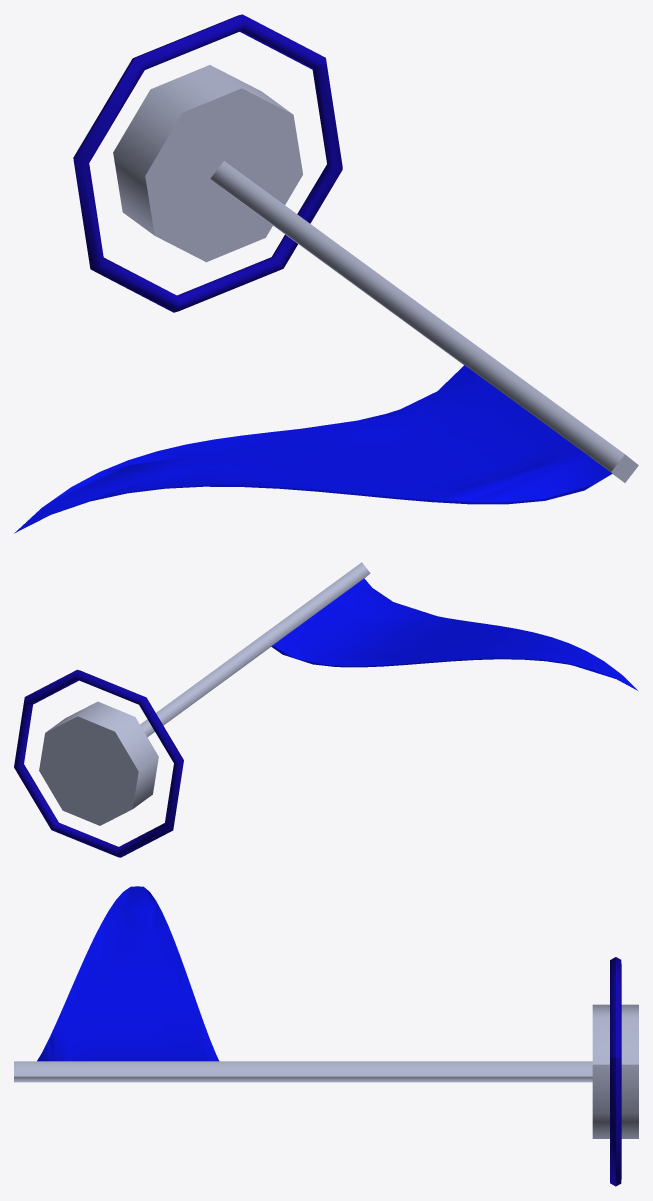
Rendered from flag1.FBX.
3 views of the same model, one above another, from view 1: azimuth 30°, elevation 25°; view 2: azimuth 150°, elevation 25°; view 3: azimuth 270°, elevation 25° (orthographic). The views are drawn at different scales.
Visible parts, largest first — view 1: Obj_000001, Obj_000003, Obj_000002, Obj_000004; view 2: Obj_000001, Obj_000003, Obj_000002, Obj_000004; view 3: Obj_000001, Obj_000004, Obj_000003, Obj_000002.
Part boxes in pixels (box(x1,y1,x2,y2)): Obj_000001: box(14, 365, 612, 533); Obj_000003: box(113, 65, 302, 262); Obj_000002: box(73, 14, 342, 312); Obj_000004: box(210, 161, 638, 482); Obj_000001: box(271, 578, 637, 690); Obj_000003: box(39, 701, 158, 825); Obj_000002: box(14, 669, 183, 857); Obj_000004: box(80, 562, 370, 779); Obj_000001: box(37, 886, 219, 1061); Obj_000004: box(14, 1061, 592, 1082); Obj_000003: box(592, 1004, 638, 1138); Obj_000002: box(610, 957, 621, 1186).
Size of the model in its own units: 47.51 by 54 by 19.37.
